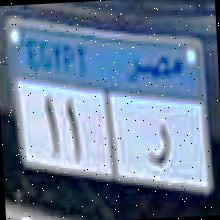1: (41, 92, 62, 160), (64, 100, 84, 163)
raa: (144, 120, 172, 176)
